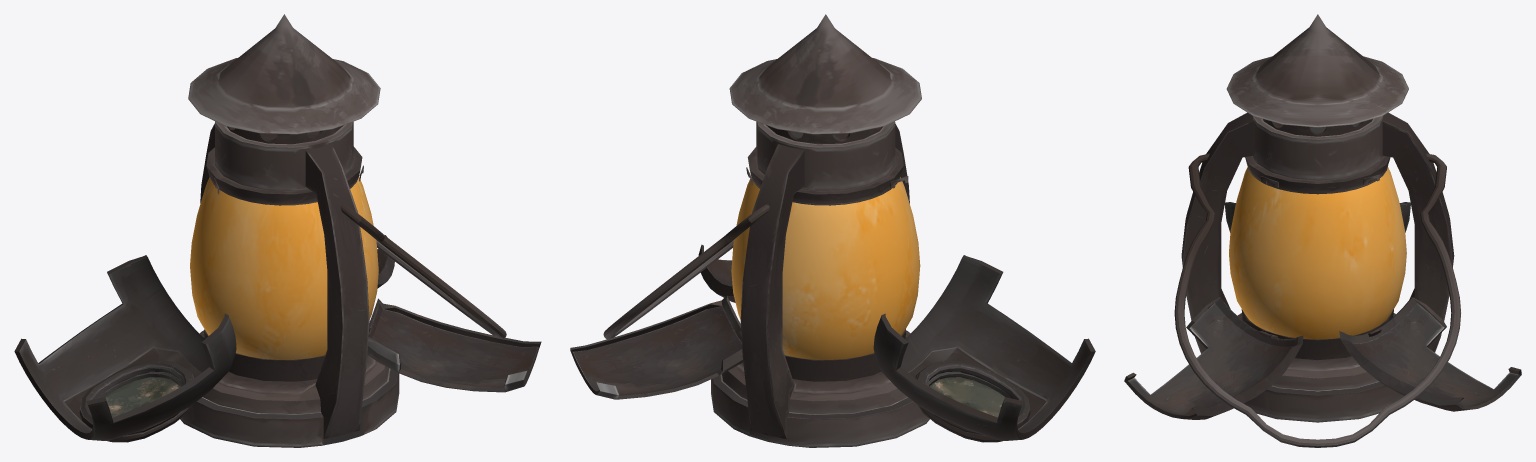
File: Lantern_open01.fbx
3 renders of one model, left to right at view 1: azimuth 30°, elevation 25°; view 2: azimuth 150°, elevation 25°; view 3: azimuth 270°, elevation 25°, orthographic. The views are drawn at different scales.
Parts seen in each view (by area): view 1: Lantern_open01; view 2: Lantern_open01; view 3: Lantern_open01.
Part boxes in pixels (x1=…): Lantern_open01: x1=14, y1=14, x2=541, y2=447; Lantern_open01: x1=570, y1=14, x2=1095, y2=447; Lantern_open01: x1=1124, y1=14, x2=1521, y2=447.
Bounding box in the file's own units: 0.3256 × 0.2739 × 0.2723.
2 materials, 2 textured.
